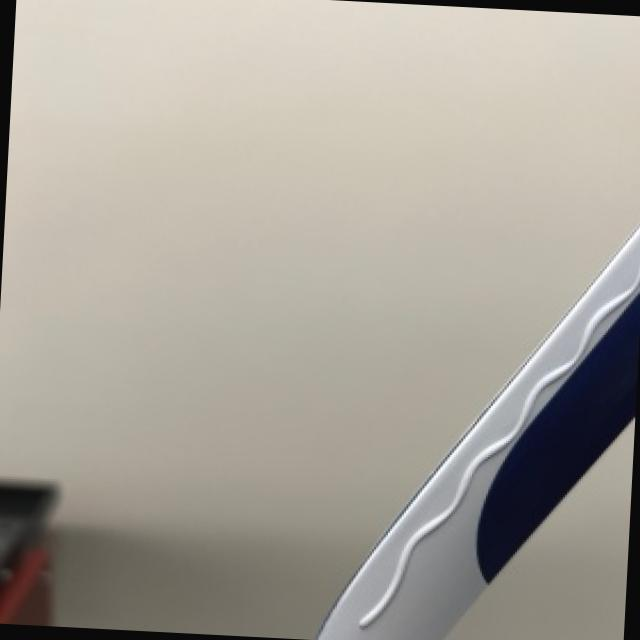healthy: (323, 223, 640, 640)
